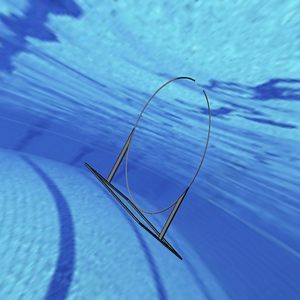circle: (82, 73, 212, 261)
